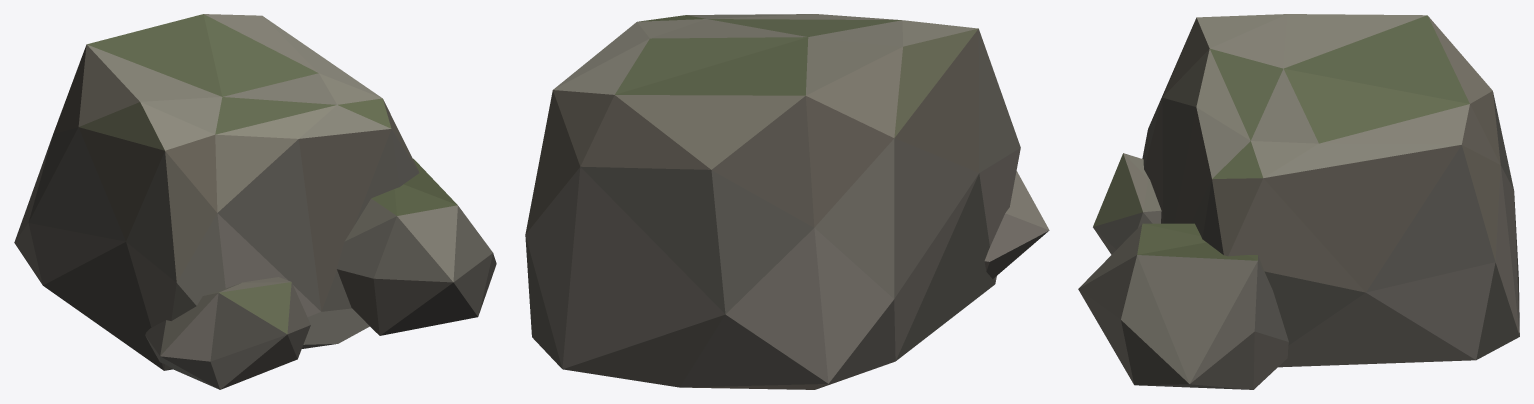
The model's file is rock.glb.
3 renders of one model, left to right at view 1: azimuth 30°, elevation 25°; view 2: azimuth 150°, elevation 25°; view 3: azimuth 270°, elevation 25°, orthographic. The views are drawn at different scales.
Parts seen in each view (by area): view 1: rock; view 2: rock; view 3: rock.
Part boxes in pixels (x1=…): rock: x1=14, y1=14, x2=496, y2=389; rock: x1=525, y1=14, x2=1049, y2=389; rock: x1=1078, y1=14, x2=1519, y2=389.
Size of the model in its own units: 3.42 by 2.09 by 3.46.
